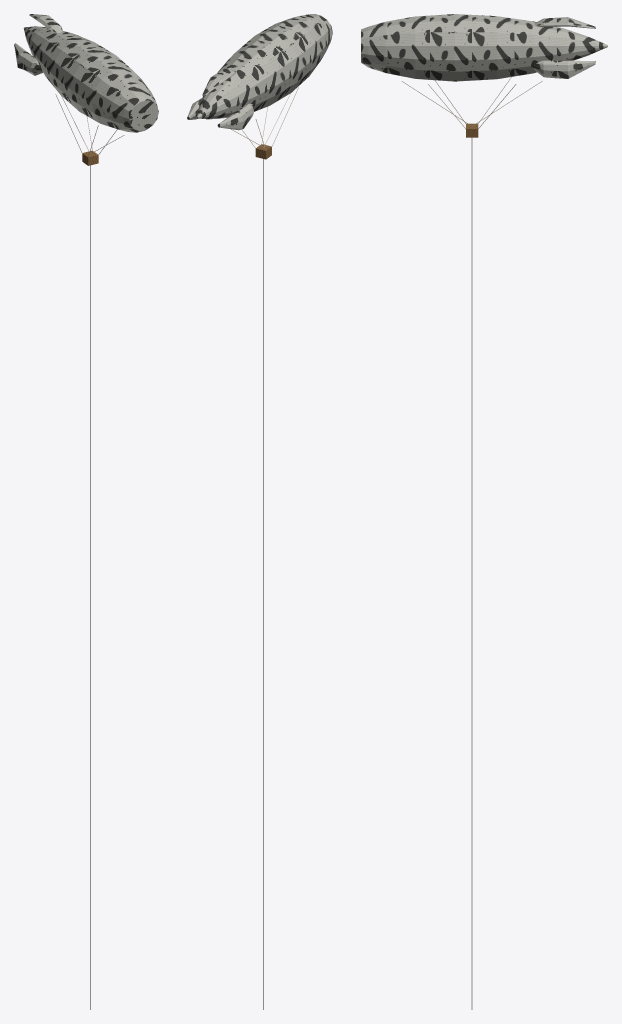
The model's file is damaged1.gltf.
3 renders of one model, left to right at view 1: azimuth 30°, elevation 25°; view 2: azimuth 150°, elevation 25°; view 3: azimuth 270°, elevation 25°, orthographic. The views are drawn at different scales.
Parts seen in each view (by area): view 1: balloon_damaged1; view 2: balloon_damaged1; view 3: balloon_damaged1.
Boxes of the visible parts, <box> form: balloon_damaged1: <box>14,14,158,1009</box>; balloon_damaged1: <box>187,14,332,1009</box>; balloon_damaged1: <box>361,14,607,1009</box>.
Bounding box in the file's own units: 19.17 × 311 × 70.
Materials: 3 (2 with a texture image).
